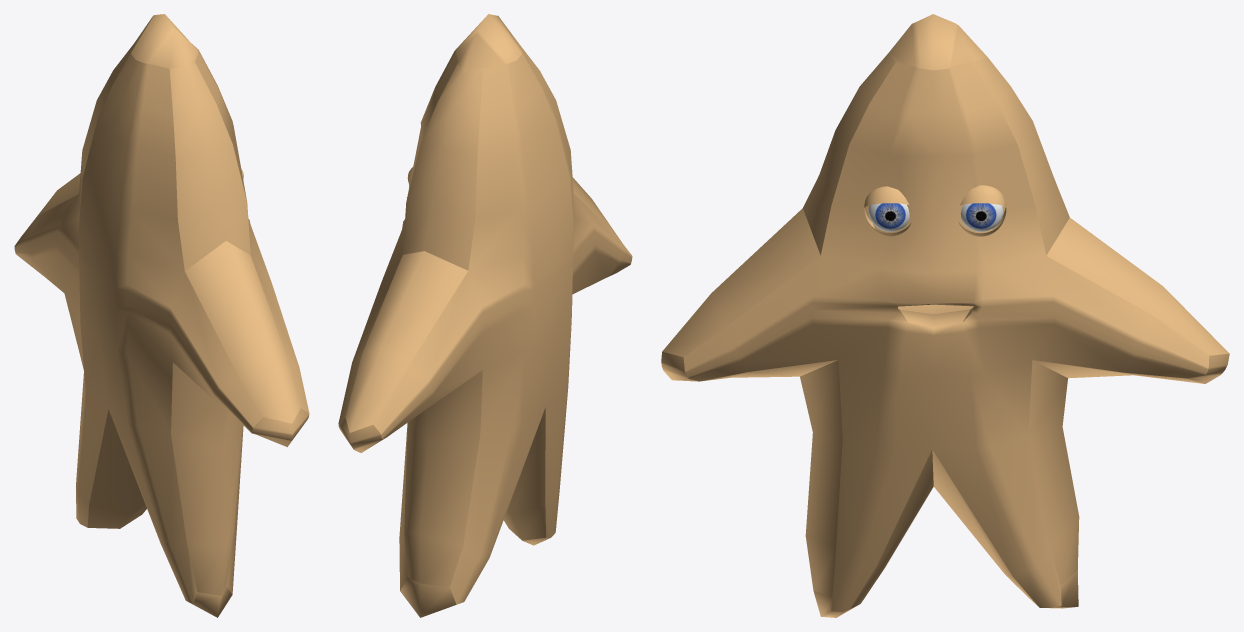
Rendered from Star.fbx.
The picture shows the model from 3 angles, left to right: view 1: azimuth 30°, elevation 25°; view 2: azimuth 150°, elevation 25°; view 3: azimuth 270°, elevation 25°; orthographic projection. The views are drawn at different scales.
Parts seen in each view (by area): view 1: poly_Body; view 2: poly_Body; view 3: poly_Body, poly_Eye_right, poly_Eye_left, poly_Eyelid_left, poly_Eyelid_right.
Boxes of the visible parts, bbox=[...] form: poly_Body: bbox=[14, 14, 309, 617]; poly_Body: bbox=[338, 14, 632, 617]; poly_Body: bbox=[661, 14, 1229, 617]; poly_Eye_right: bbox=[960, 203, 1003, 231]; poly_Eye_left: bbox=[868, 203, 909, 231]; poly_Eyelid_left: bbox=[958, 185, 1006, 236]; poly_Eyelid_right: bbox=[864, 186, 911, 236].
Size of the model in its own units: 0.7543 by 2.95 by 2.52.
